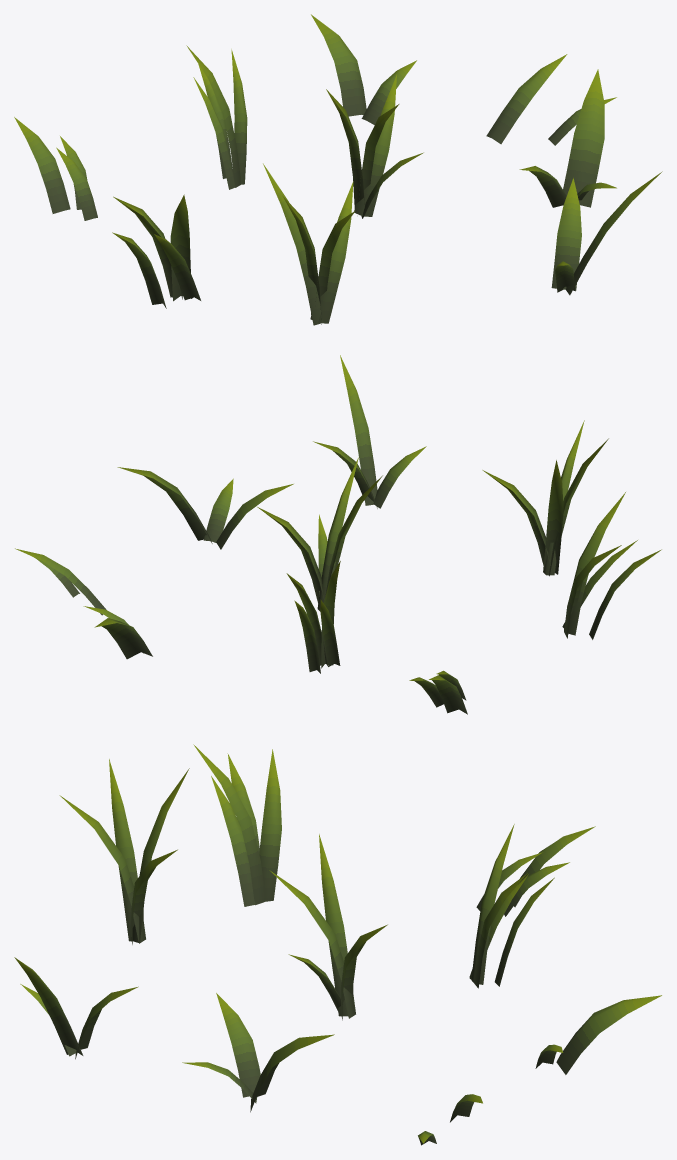
The model's file is Grass_02.FBX.
The picture shows the model from 3 angles, top to bottom: view 1: azimuth 30°, elevation 25°; view 2: azimuth 150°, elevation 25°; view 3: azimuth 270°, elevation 25°; orthographic projection. The views are drawn at different scales.
Visible parts, largest first — view 1: Grass_02; view 2: Grass_02; view 3: Grass_02.
Boxes of the visible parts, box(x1,y1,x2,y2) form: Grass_02: box(14, 14, 662, 325); Grass_02: box(15, 355, 661, 714); Grass_02: box(14, 744, 661, 1145).
Size of the model in its own units: 2.93 by 0.7598 by 2.61.
